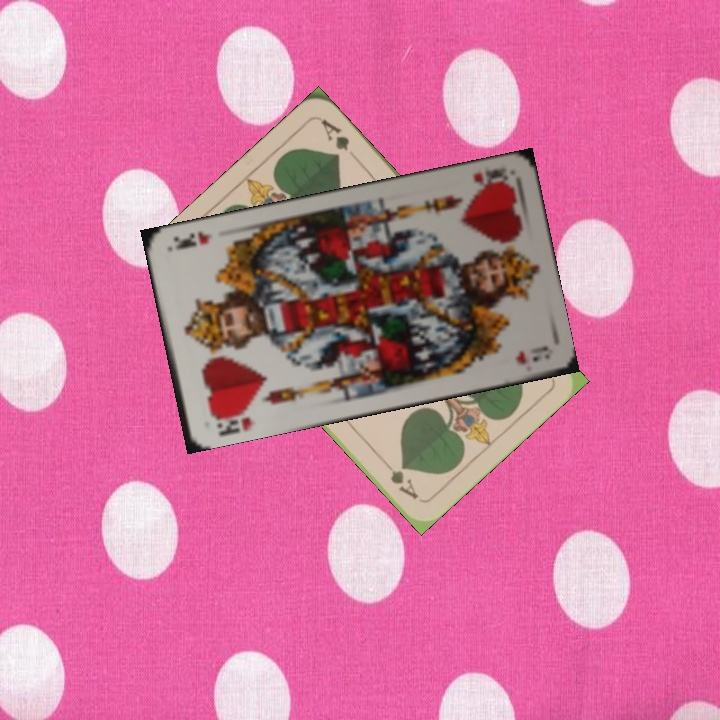HK: (207, 405, 256, 439), (469, 163, 512, 194)
